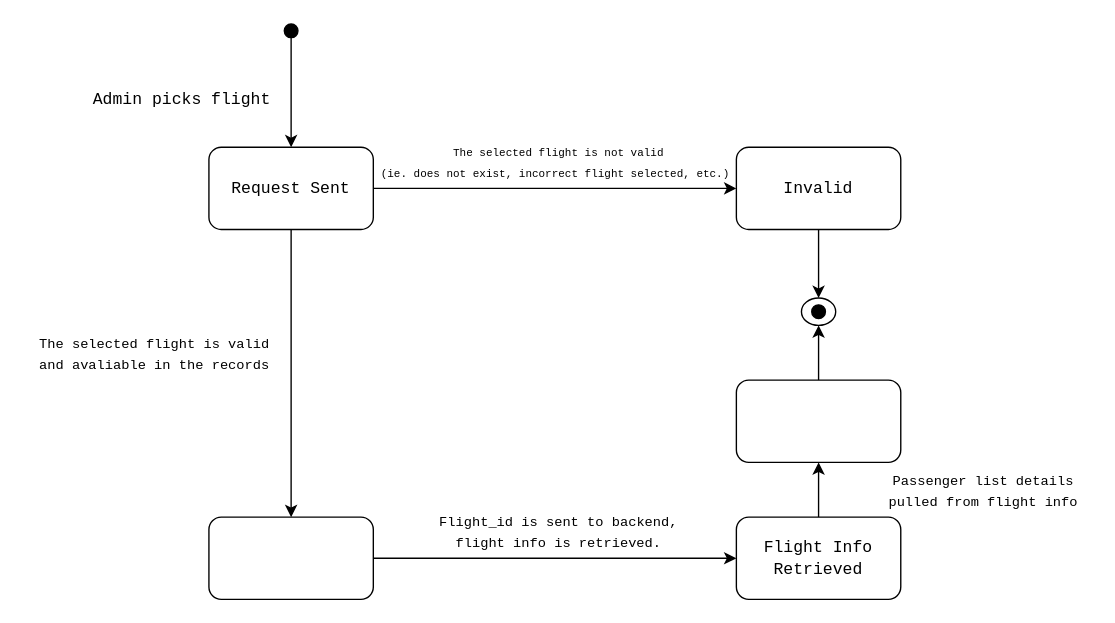
Some shapes in this 1115 by 623 pixel diagram are drawn without their labels. The box of each missing label's shape, as (x1, y1, x2, y2) in pixels:
Passenger List: (735, 379, 901, 462)
Valid: (208, 516, 373, 599)
